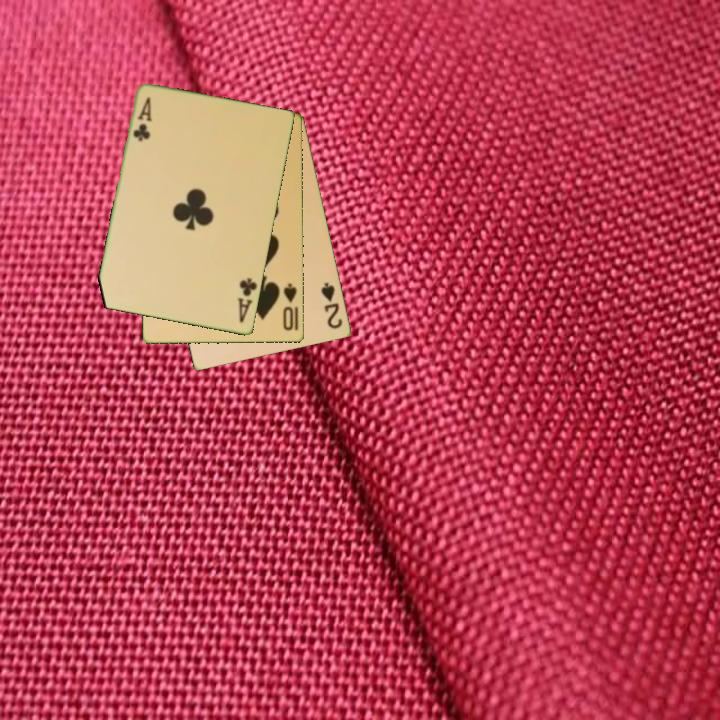10s: (280, 280, 301, 334)
2s: (318, 279, 346, 332)
Ac: (130, 93, 155, 145), (235, 275, 260, 326)
